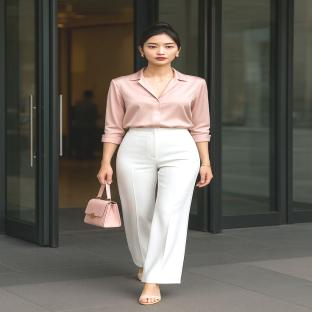Human: (97, 23, 212, 305)
